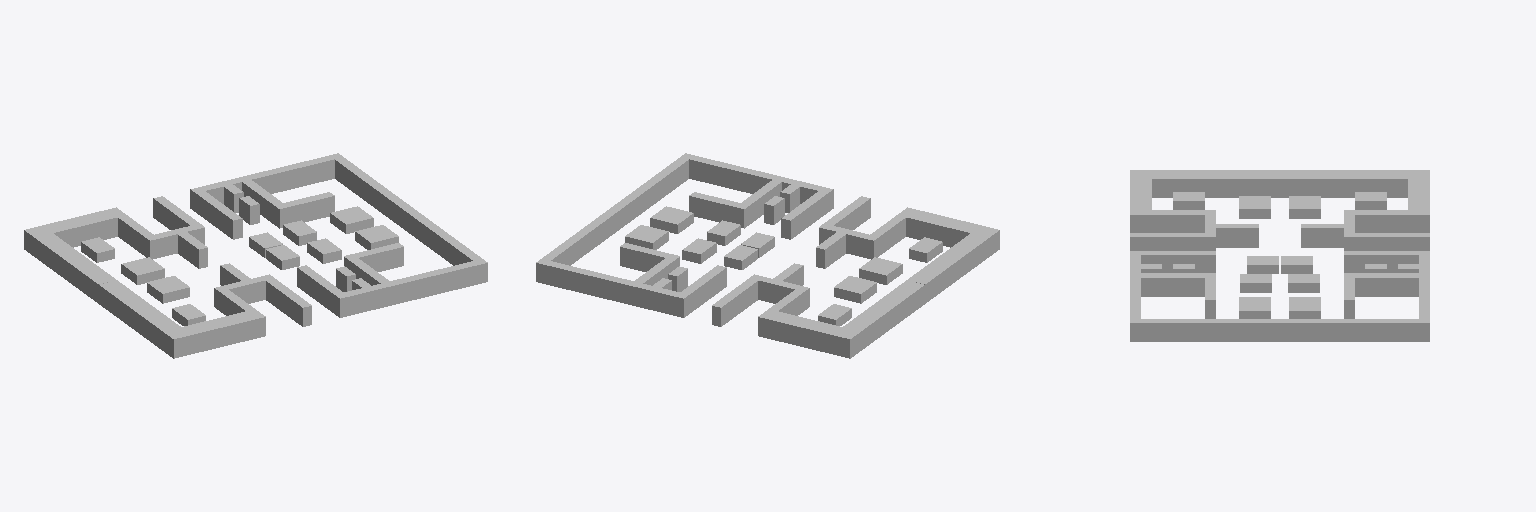
Rendered from levelGraficas.obj.
3 renders of one model, left to right at view 1: azimuth 30°, elevation 25°; view 2: azimuth 150°, elevation 25°; view 3: azimuth 270°, elevation 25°, orthographic.
Visible parts, largest first — view 1: Cube; view 2: Cube; view 3: Cube.
Part boxes in pixels (left/top/right/bottom): Cube: left=24, top=153, right=487, bottom=358; Cube: left=536, top=153, right=999, bottom=358; Cube: left=1130, top=170, right=1429, bottom=341.
Size of the model in its own units: 34 by 2 by 28.02.